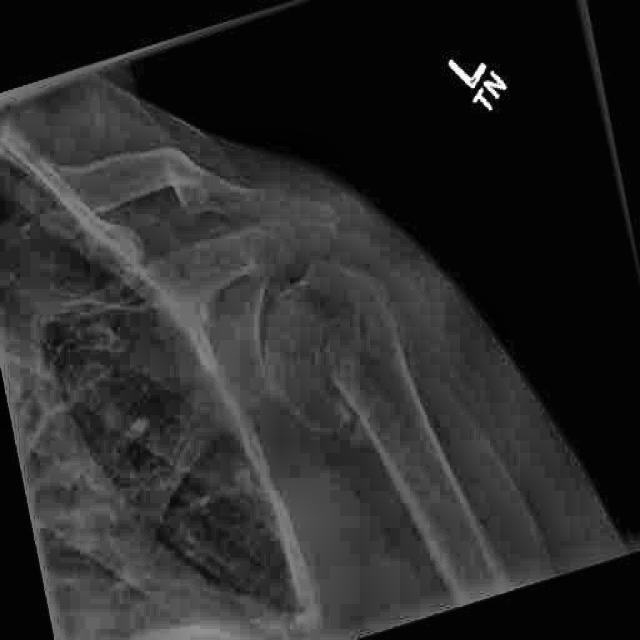shoulder fracture: (147, 132, 239, 242)
